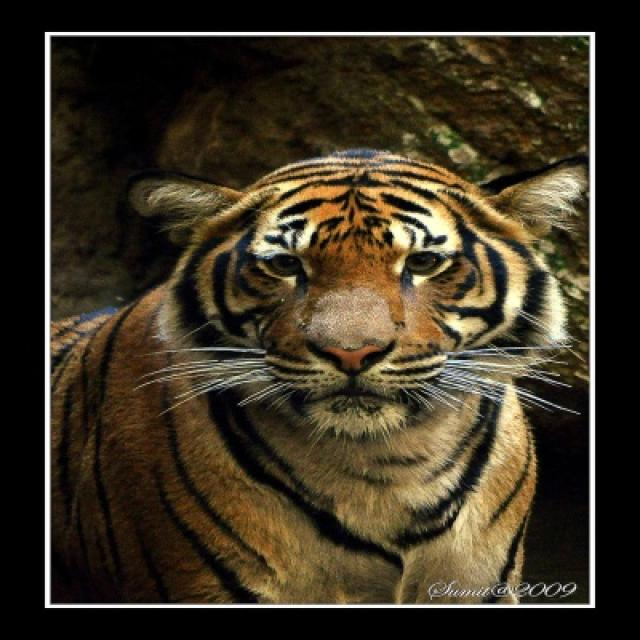Tiger: (49, 145, 594, 605)
